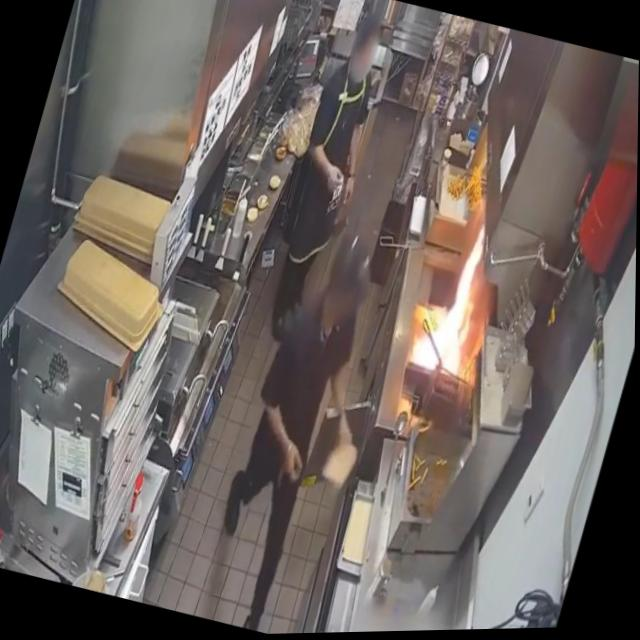fire: (403, 210, 508, 392)
